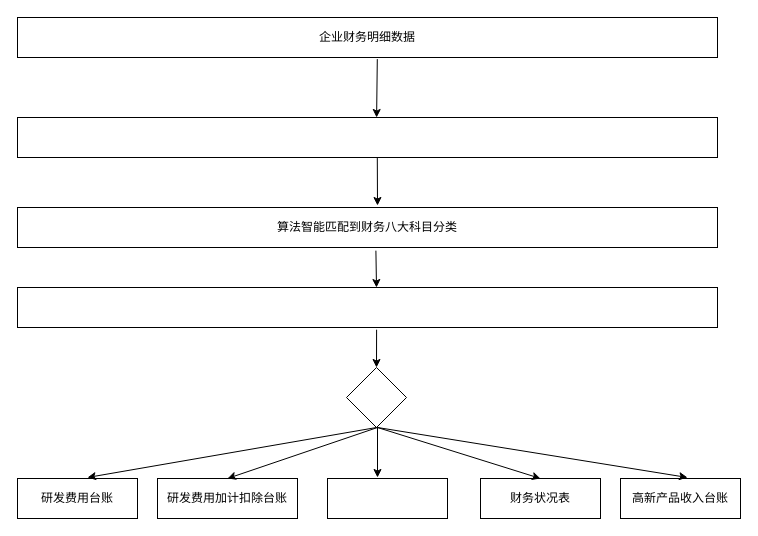
Image size: 758x536. Some labels were removed from this diagram. The shapes that lost their labels are listed below. From the top down, each one's centre as x and y in pixels, then its label:
the point at 367,137: 识别科目和摘要信息
the point at 367,307: 分析科目分类数据生成台账报表
the point at 387,498: 工业产销总值
